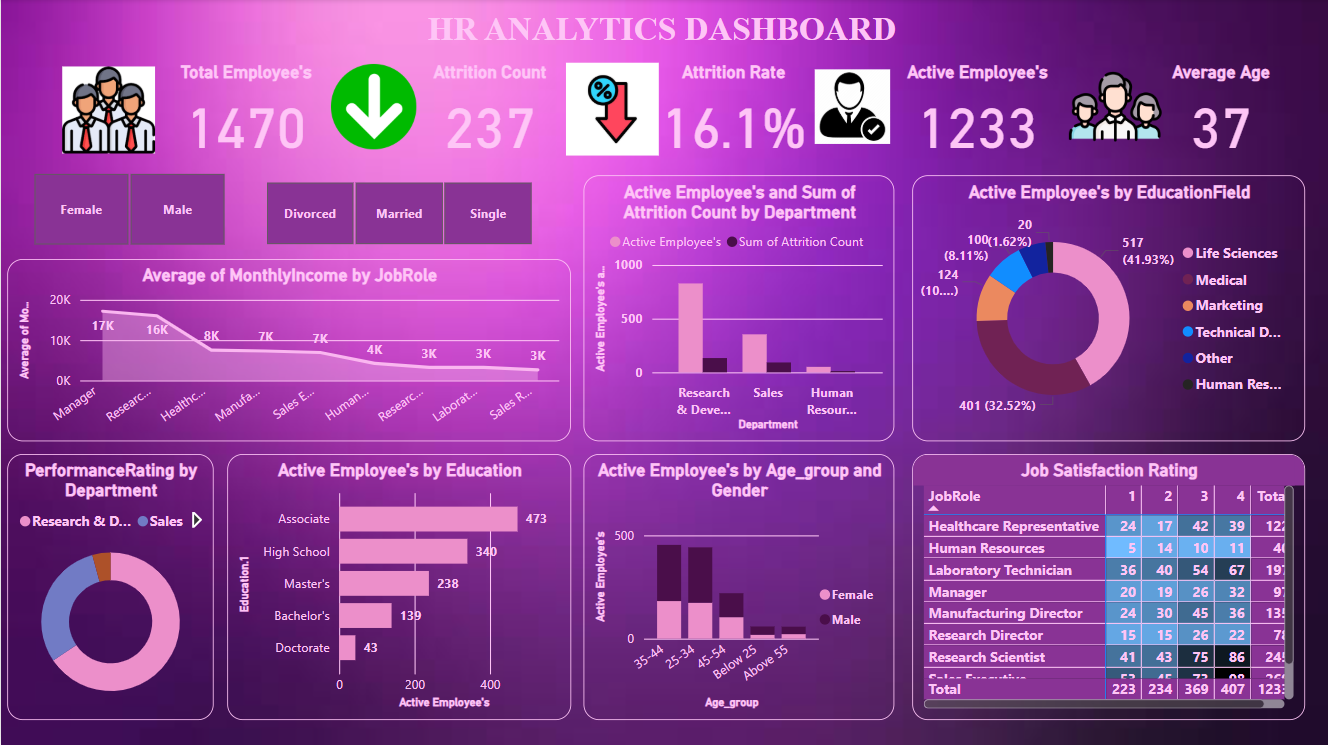

What the dashboard file says about the page in this screenshot:
{"tool":"powerbi","page":{"name":"Page 1","canvas":[1280,720],"ordinal":0},"visuals":[{"type":"card","title":"Total Employee''s","fields":{"Values":["Sum(Hr_Transformed_Data.EmployeeCount)"]},"box":[154.4,60.6,164.5,95.2],"z":0,"group":"g1"},{"type":"card","title":"Attrition Count","fields":{"Values":["Sum(Hr_Transformed_Data.Attrition Count)"]},"box":[389.6,60.6,164.5,95.2],"z":1,"group":"g1"},{"type":"card","title":"Attrition Rate","fields":{"Values":["Hr_Transformed_Data.Attrition Rate"]},"box":[624.7,60.6,164.5,95.2],"z":2,"group":"g1"},{"type":"card","title":"Active Employee''s","fields":{"Values":["Hr_Transformed_Data.Active Employee's"]},"box":[859.9,60.6,164.5,95.2],"z":3,"group":"g1"},{"type":"card","title":"Average Age","fields":{"Values":["Avg(Hr_Transformed_Data.Age)"]},"box":[1095.1,60.6,164.5,95.2],"z":4,"group":"g1"},{"type":"clusteredColumnChart","fields":{"Category":["Hr_Transformed_Data.Department"],"Y":["Hr_Transformed_Data.Active Employee's","Sum(Hr_Transformed_Data.Attrition Count)"]},"box":[562.7,170.2,300.1,256.8],"z":5},{"type":"donutChart","fields":{"Y":["Hr_Transformed_Data.Active Employee's"],"Category":["Hr_Transformed_Data.EducationField"]},"box":[880.1,170.2,379.4,256.8],"z":6},{"type":"columnChart","fields":{"Y":["Hr_Transformed_Data.Active Employee's"],"Category":["Hr_Transformed_Data.Age_group"],"Series":["Hr_Transformed_Data.Gender"]},"box":[562.7,438.6,300.1,256.8],"z":7},{"type":"pivotTable","title":"Job Satisfaction Rating","fields":{"Rows":["Hr_Transformed_Data.JobRole"],"Columns":["Hr_Transformed_Data.JobSatisfaction"],"Values":["Hr_Transformed_Data.Active Employee's"]},"box":[880.1,438.6,379.4,256.8],"z":8},{"type":"donutChart","title":"PerformanceRating by Department","fields":{"Y":["Sum(Hr_Transformed_Data.PerformanceRating)"],"Category":["Hr_Transformed_Data.Department"]},"box":[5.8,438.6,199.1,256.8],"z":9},{"type":"clusteredBarChart","title":"Active Employee''s by Education","fields":{"Y":["Hr_Transformed_Data.Active Employee's"],"Category":["Hr_Transformed_Data.Education.1"]},"box":[217.9,438.6,331.8,256.8],"z":10},{"type":"areaChart","fields":{"Category":["Hr_Transformed_Data.JobRole"],"Y":["Avg(Hr_Transformed_Data.MonthlyIncome)"]},"box":[5.8,251,543.9,176],"z":11},{"type":"slicer","fields":{"Values":["Hr_Transformed_Data.Gender"]},"box":[5.8,161.6,233.7,82.2],"z":12},{"type":"slicer","fields":{"Values":["Hr_Transformed_Data.MaritalStatus"]},"box":[230.8,170.2,305.9,73.6],"z":13},{"type":"group","id":"g1","title":"Group 1","box":[154.4,60.6,1105.2,95.2],"z":14},{"type":"image","box":[1024.4,54.8,102.4,99.6],"z":15},{"type":"image","box":[313.1,53.4,92.3,101],"z":16},{"type":"image","box":[541,56.3,99.6,99.6],"z":17},{"type":"image","box":[780.5,54.8,82.2,99.6],"z":18},{"type":"image","box":[54.8,57.7,99.6,98.1],"z":19},{"type":"textbox","box":[5.8,4.3,1263.9,49.1],"z":20}]}

Visuals, with their boxes in screenshot pixels (x1, y1, x2, y2), scaled from the page's 1280x720 canvas onto the 1328x745 screenshot:
"Total Employee''s" card: [160, 63, 331, 161]
"Attrition Count" card: [404, 63, 575, 161]
"Attrition Rate" card: [648, 63, 819, 161]
"Active Employee''s" card: [892, 63, 1063, 161]
"Average Age" card: [1136, 63, 1307, 161]
clusteredColumnChart - Hr_Transformed_Data.Department x Hr_Transformed_Data.Active Employee's: [584, 176, 895, 442]
donutChart - Hr_Transformed_Data.Active Employee's x Hr_Transformed_Data.EducationField: [913, 176, 1307, 442]
columnChart - Hr_Transformed_Data.Active Employee's x Hr_Transformed_Data.Age_group: [584, 454, 895, 720]
"Job Satisfaction Rating" pivotTable: [913, 454, 1307, 720]
"PerformanceRating by Department" donutChart: [6, 454, 213, 720]
"Active Employee''s by Education" clusteredBarChart: [226, 454, 570, 720]
areaChart - Hr_Transformed_Data.JobRole x Avg(Hr_Transformed_Data.MonthlyIncome): [6, 260, 570, 442]
slicer - Hr_Transformed_Data.Gender: [6, 167, 248, 252]
slicer - Hr_Transformed_Data.MaritalStatus: [239, 176, 557, 252]
"Group 1" group: [160, 63, 1307, 161]
image: [1063, 57, 1169, 160]
image: [325, 55, 421, 160]
image: [561, 58, 665, 161]
image: [810, 57, 895, 160]
image: [57, 60, 160, 161]
textbox: [6, 4, 1317, 55]
